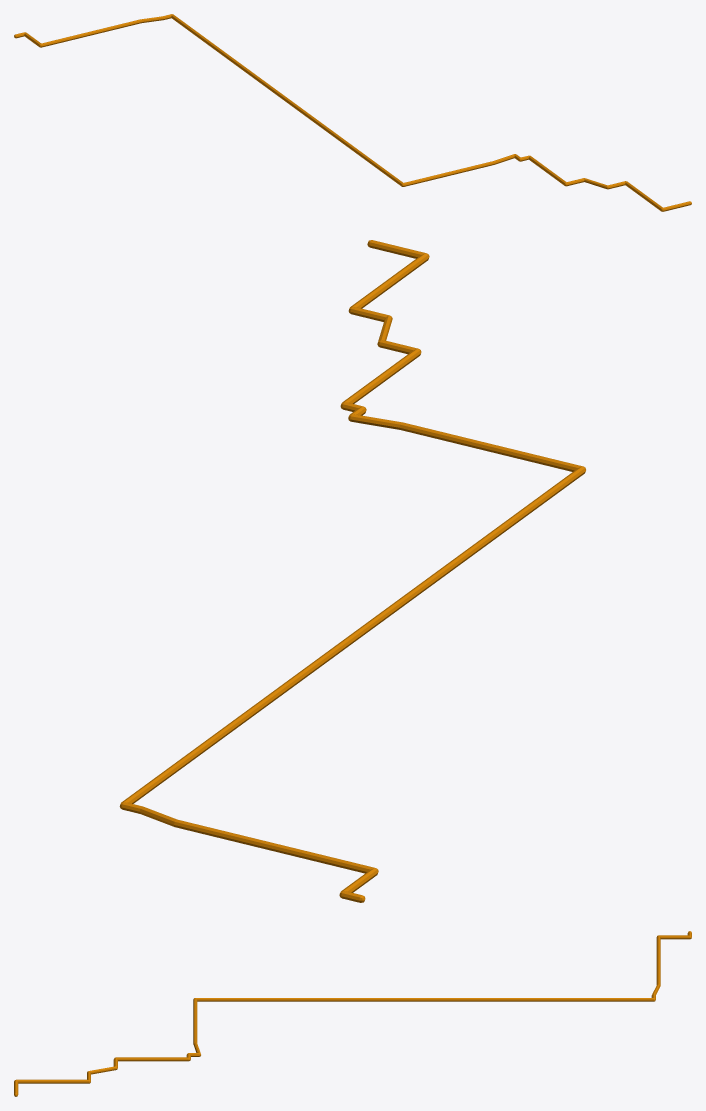
3 renders of one model, top to bottom at view 1: azimuth 30°, elevation 25°; view 2: azimuth 150°, elevation 25°; view 3: azimuth 270°, elevation 25°, orthographic. The views are drawn at different scales.
Size of the model in its own units: 1859 by 20 by 3253.
